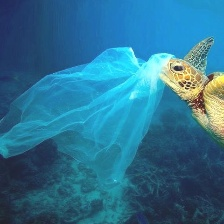plastic_bag: (0, 40, 176, 193)
